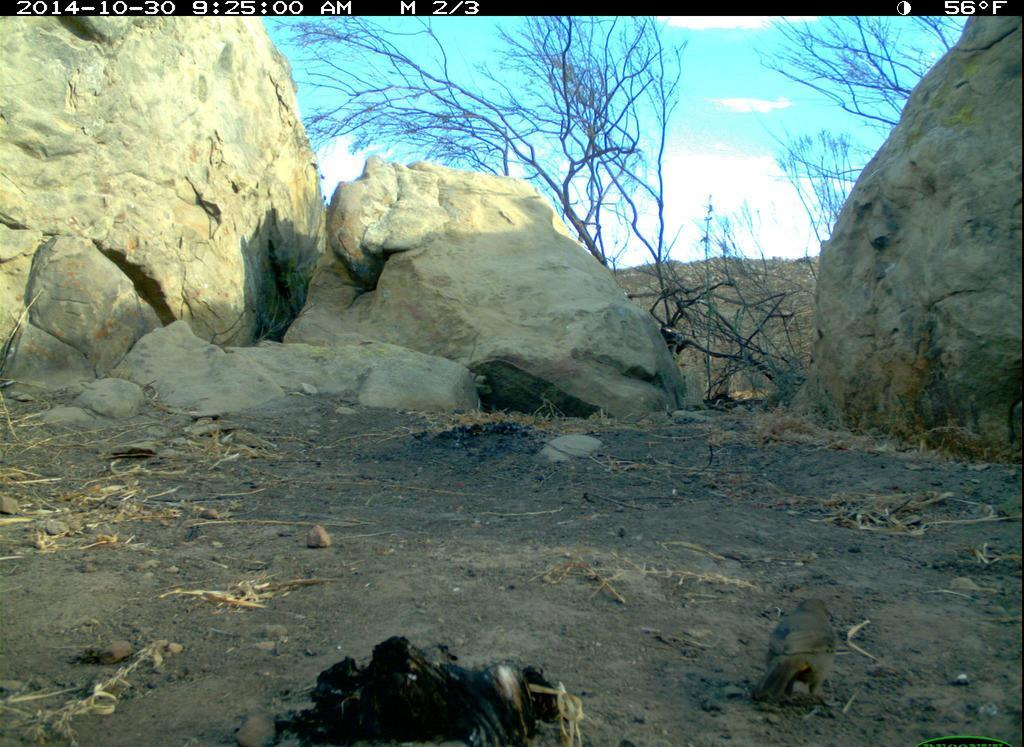bird: (745, 590, 846, 716)
